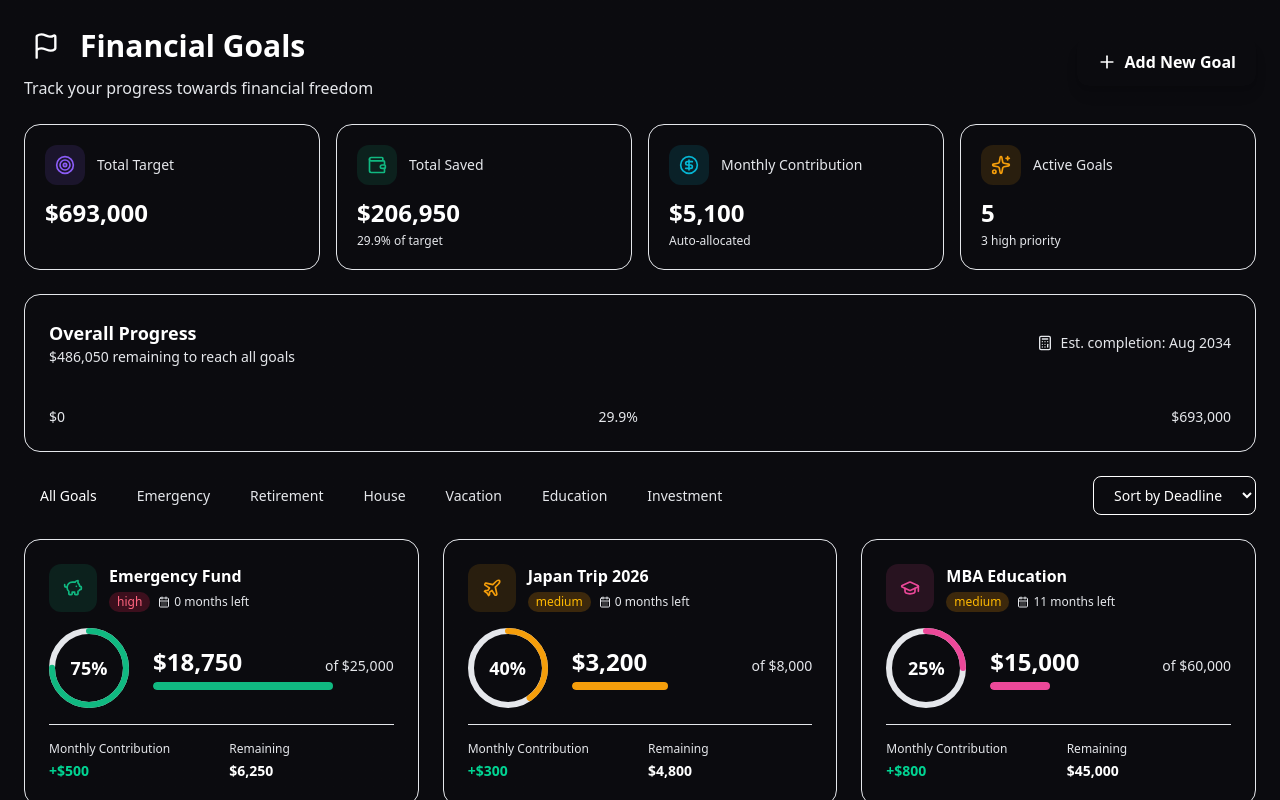
it: GoalsPage Tests › Category Filters › shows empty state for category with no goals
Click the button with aria-label "filter by investment": (685, 496) [631,478,738,514]
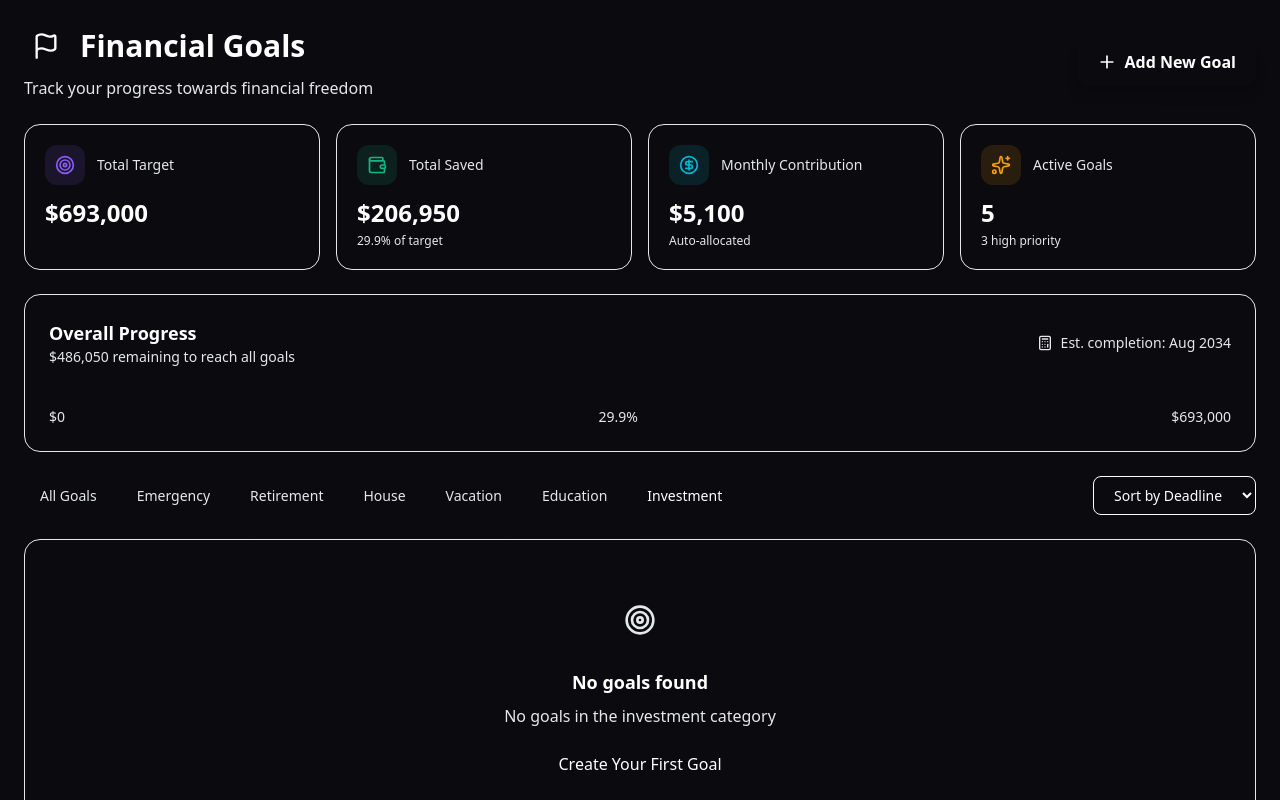
expect the heading "No goals found" is shown: met, box [572,670,708,694]
